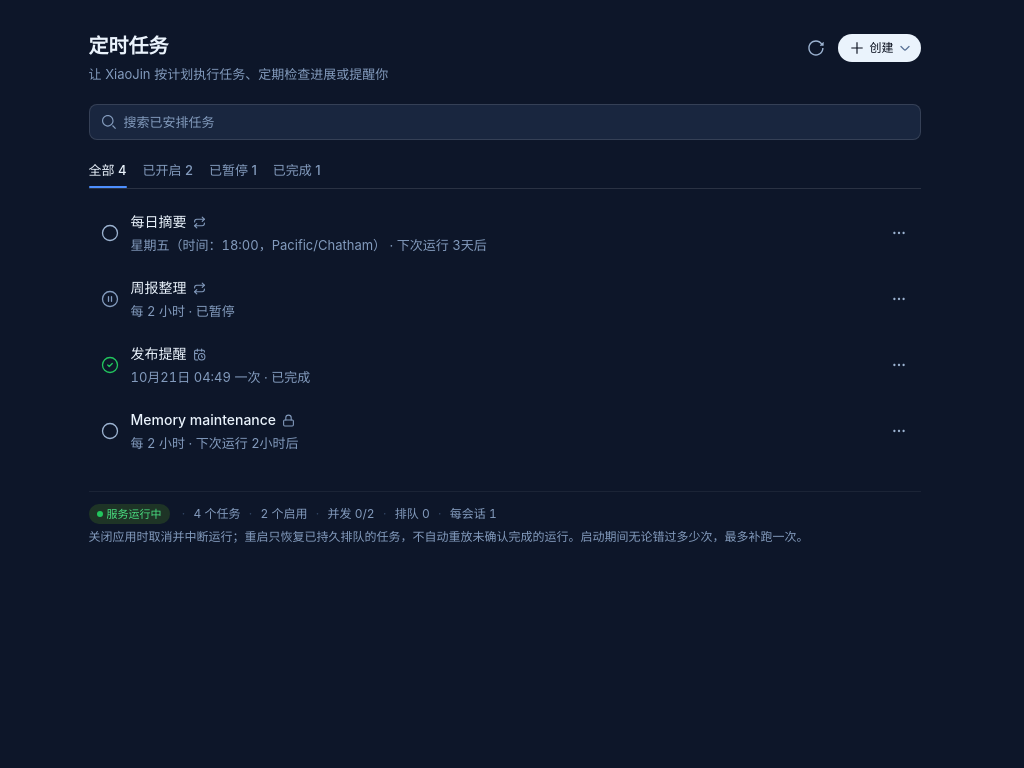
SchedulerPage › opens a row in the edit dialog; protected jobs get no form
Click the button "每日摘要 星期五（时间：18:00，Pacific/Chatham） · 下次运行 3天后".
click(158, 222)  # box [88,201,876,265]
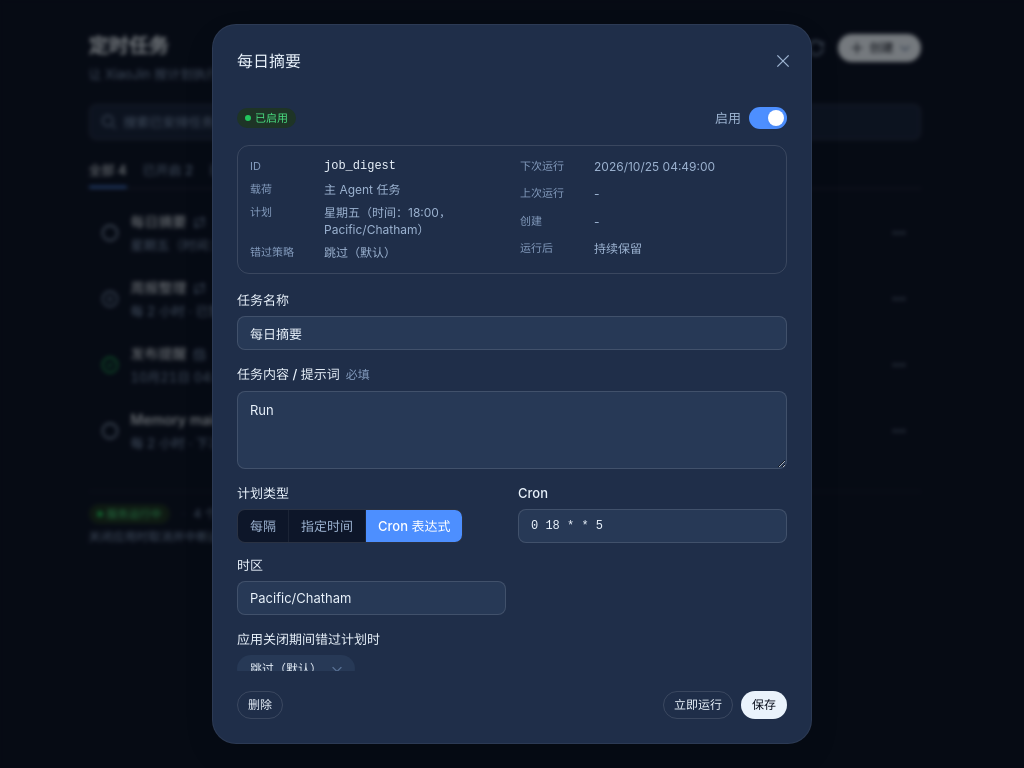
Result: the field labelled "任务名称" holds "每日摘要" at [250,317,774,349]
Result: the button "保存" is shown at [741,691,787,719]
Click the button with class "close".
click(783, 61)  # box [769,47,797,75]
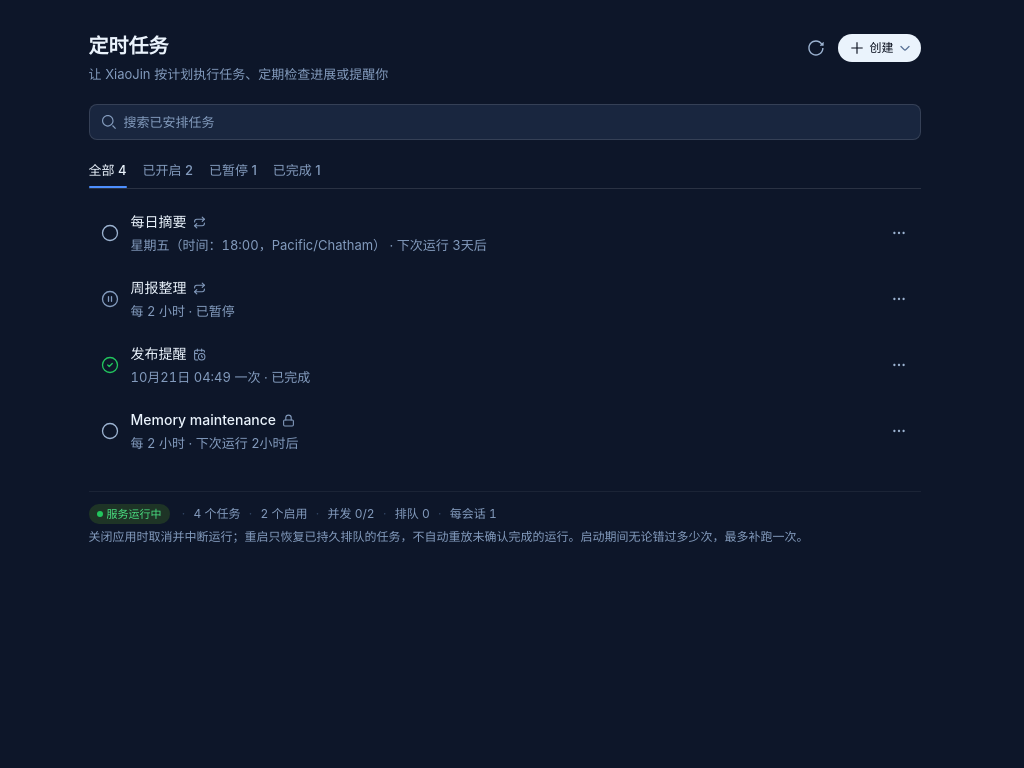
Click the button "Memory maintenance 每 2 小时 · 下次运行 2小时后".
click(203, 420)  # box [88,399,876,463]
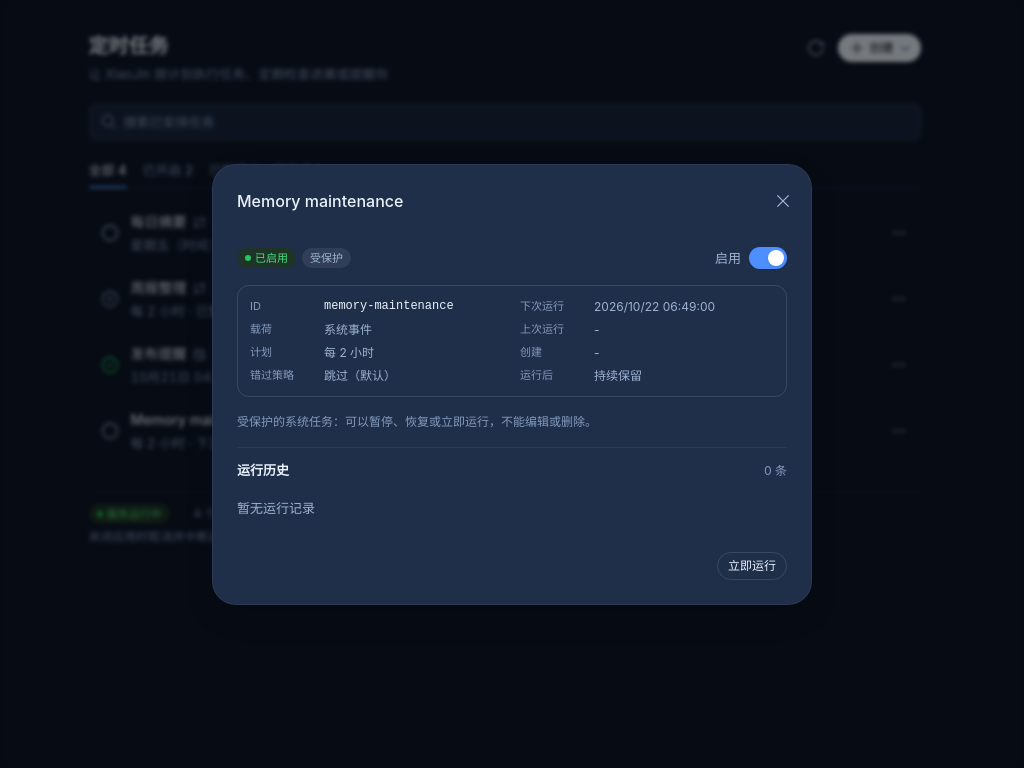
Result: the text "受保护的系统任务" is shown at [237,414,597,428]
Result: the button "立即运行" is shown at [717,552,787,580]
